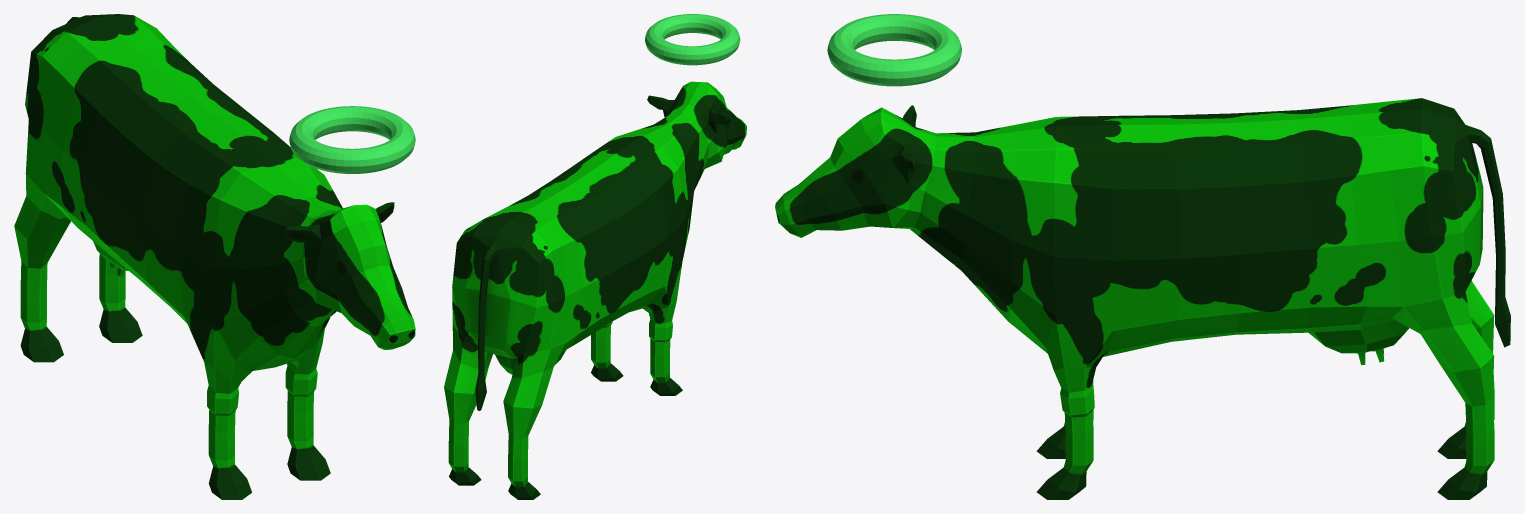
The model's file is healthy_in_estrus.glb.
The picture shows the model from 3 angles, left to right: view 1: azimuth 30°, elevation 25°; view 2: azimuth 150°, elevation 25°; view 3: azimuth 270°, elevation 25°; orthographic projection. The views are drawn at different scales.
Visible parts, largest first — view 1: Cow_mesh, Torus; view 2: Cow_mesh, Torus; view 3: Cow_mesh, Torus.
Boxes of the visible parts, <box> form: Cow_mesh: <box>14,14,415,499</box>; Torus: <box>289,106,415,173</box>; Cow_mesh: <box>444,81,746,499</box>; Torus: <box>645,14,740,65</box>; Cow_mesh: <box>775,98,1510,499</box>; Torus: <box>827,14,961,86</box>.
Bounding box in the file's own units: 3.36 × 8.92 × 13.65.
Materials: 2 (1 with a texture image).
